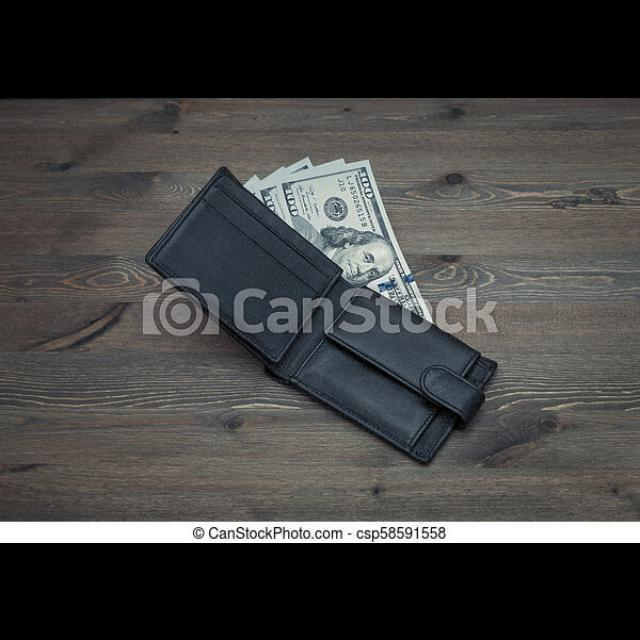Wallet: (132, 134, 526, 492)
